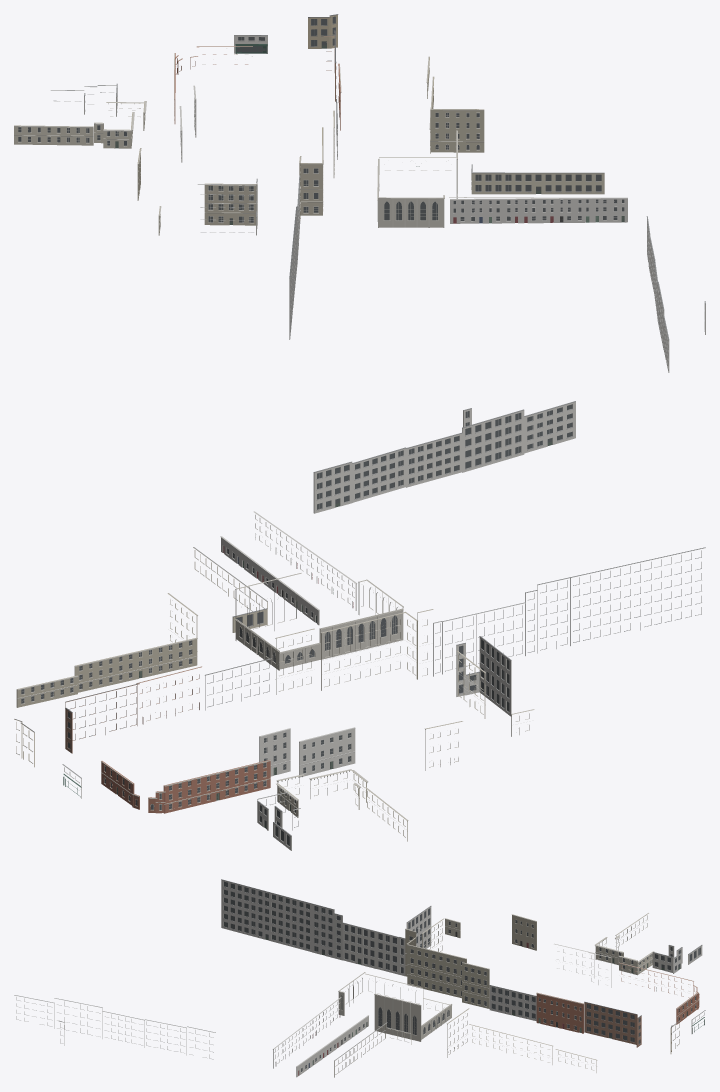
3 renders of one model, top to bottom at view 1: azimuth 30°, elevation 25°; view 2: azimuth 150°, elevation 25°; view 3: azimuth 270°, elevation 25°, orthographic. The views are drawn at different scales.
Parts seen in each view (by area): view 1: f:way/134555062, f:way/172412804, f:way/548862198, f:way/171285873, f:way/135077620, f:way/134555063, f:way/134555065, f:way/171285878, f:way/992027357, f:way/148827006, f:way/47379888; view 2: f:way/134555065, f:way/134555063, f:way/172029474, f:way/135077620, f:way/47379888, f:way/172029475, f:way/134555062, f:way/992027357, f:way/172412804, f:way/171285873, f:way/135077621, f:way/548862198 (+2 smaller); view 3: f:way/992027357, f:way/172412804, f:way/47379888, f:way/134555063, f:way/171285875, f:way/171285881, f:way/134555062, f:way/171285868, f:way/134555065, f:way/171285873, f:way/171285877, f:way/171285869 (+3 smaller).
Boxes of the visible parts, box(x1,y1,x2,y2) form: f:way/134555062: box(449, 197, 627, 223); f:way/172412804: box(204, 110, 334, 225); f:way/548862198: box(471, 164, 604, 194); f:way/171285873: box(14, 101, 146, 148); f:way/135077620: box(429, 76, 484, 153); f:way/134555063: box(377, 130, 457, 227); f:way/134555065: box(646, 216, 705, 372); f:way/171285878: box(308, 14, 338, 48); f:way/992027357: box(289, 206, 297, 339); f:way/148827006: box(234, 35, 267, 53); f:way/47379888: box(197, 175, 300, 259); f:way/134555065: box(313, 401, 575, 513); f:way/134555063: box(235, 573, 403, 670); f:way/172029474: box(101, 760, 270, 813); f:way/135077620: box(74, 593, 197, 692); f:way/47379888: box(433, 602, 525, 716); f:way/172029475: box(259, 727, 355, 777); f:way/134555062: box(220, 511, 356, 625); f:way/992027357: box(525, 547, 705, 655); f:way/172412804: box(275, 609, 485, 718); f:way/171285873: box(276, 769, 408, 841); f:way/135077621: box(16, 675, 77, 707); f:way/548862198: box(193, 547, 267, 632); f:way/992027357: box(221, 879, 342, 960); f:way/172412804: box(405, 918, 489, 1008); f:way/47379888: box(342, 906, 431, 976); f:way/134555063: box(338, 972, 452, 1041); f:way/171285875: box(584, 1001, 641, 1047); f:way/171285881: box(536, 992, 583, 1033); f:way/134555062: box(273, 997, 368, 1077); f:way/171285868: box(489, 985, 536, 1021); f:way/134555065: box(14, 995, 215, 1059); f:way/171285873: box(595, 913, 654, 975); f:way/171285877: box(652, 945, 702, 973); f:way/171285869: box(512, 914, 536, 950).
Size of the model in its own units: 132 by 21.14 by 256.
